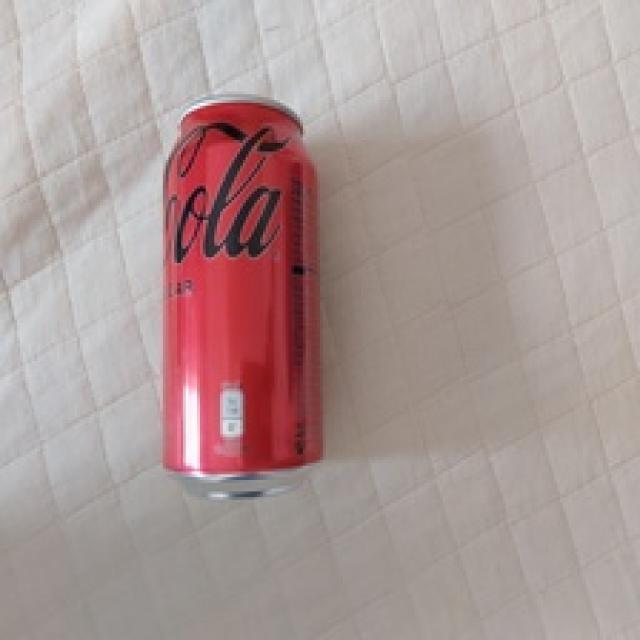recyclable: (162, 90, 321, 498)
